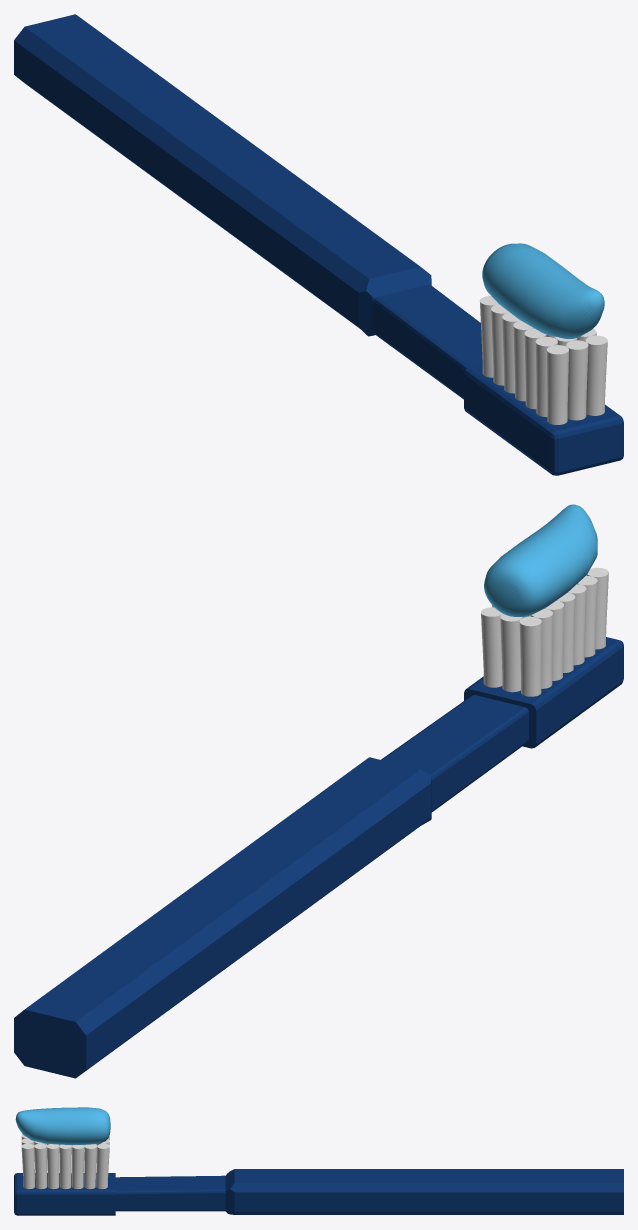
Rendered from toothbrush.fbx.
3 renders of one model, top to bottom at view 1: azimuth 30°, elevation 25°; view 2: azimuth 150°, elevation 25°; view 3: azimuth 270°, elevation 25°, orthographic. The views are drawn at different scales.
Parts seen in each view (by area): view 1: Cube.013, Cylinder.044, Cylinder.052; view 2: Cube.013, Cylinder.044, Cylinder.052; view 3: Cube.013, Cylinder.044, Cylinder.052.
Part boxes in pixels (box(x1,y1,x2,y2)): Cube.013: box(14, 14, 623, 475); Cylinder.044: box(479, 296, 607, 424); Cylinder.052: box(482, 243, 604, 338); Cube.013: box(14, 637, 623, 1078); Cylinder.044: box(481, 567, 608, 696); Cylinder.052: box(484, 504, 597, 616); Cube.013: box(14, 1169, 623, 1215); Cylinder.044: box(21, 1134, 109, 1189); Cylinder.052: box(15, 1107, 110, 1144).
Bounding box in the file's own units: 107 × 246 × 1381.
